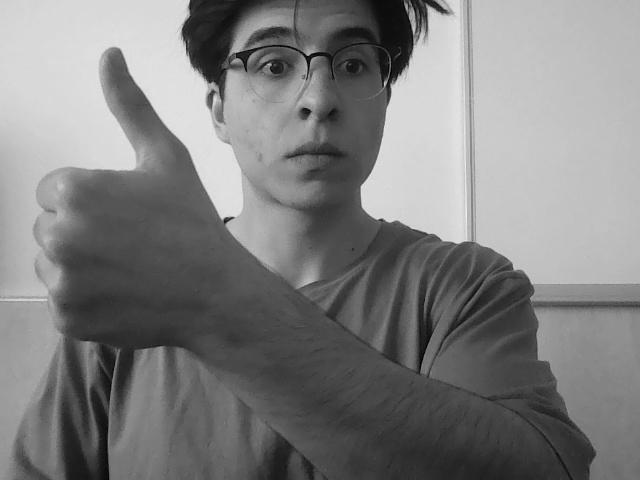good: (7, 44, 199, 362)
